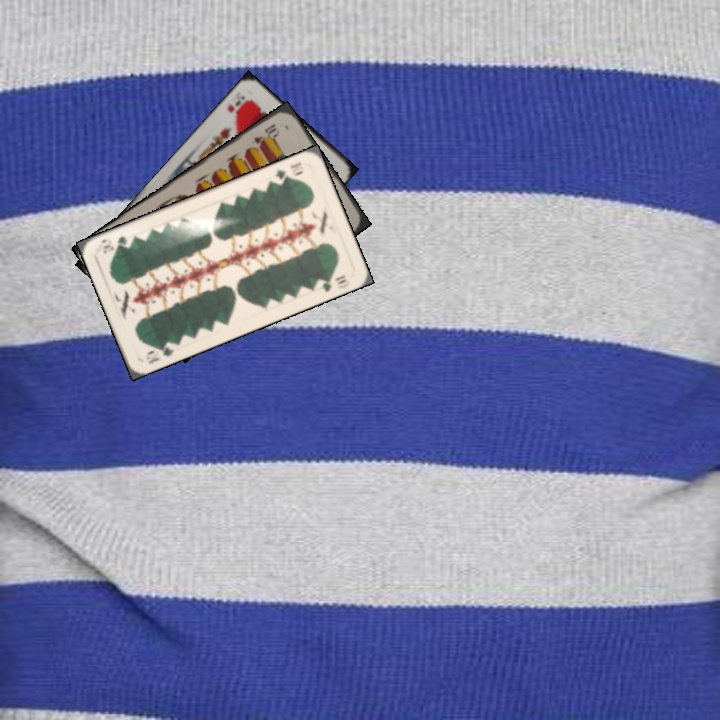E10: (250, 119, 282, 147)
G10: (142, 340, 177, 366), (271, 158, 304, 183)
HK: (223, 91, 253, 120)
